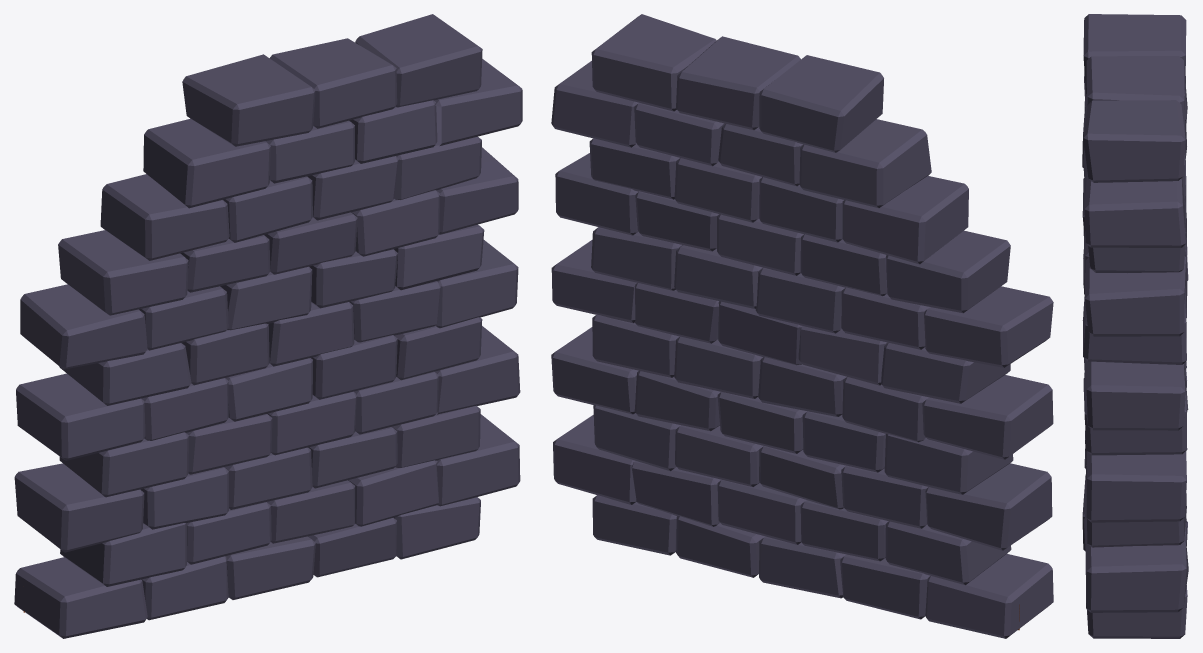
File: BrickWallEndRc.glb
The picture shows the model from 3 angles, left to right: view 1: azimuth 30°, elevation 25°; view 2: azimuth 150°, elevation 25°; view 3: azimuth 270°, elevation 25°; orthographic projection. The views are drawn at different scales.
Parts seen in each view (by area): view 1: Cube, Cube.001; view 2: Cube, Cube.001; view 3: Cube.001, Cube.
Boxes of the visible parts, x1,y1,x2,y2 form: Cube: [14, 14, 484, 638]; Cube.001: [434, 59, 522, 506]; Cube: [589, 14, 1053, 638]; Cube.001: [551, 61, 638, 504]; Cube.001: [1083, 172, 1188, 612]; Cube: [1082, 14, 1188, 638].
Size of the model in its own units: 2.21 by 2.27 by 0.432.
3 materials, 1 textured.
